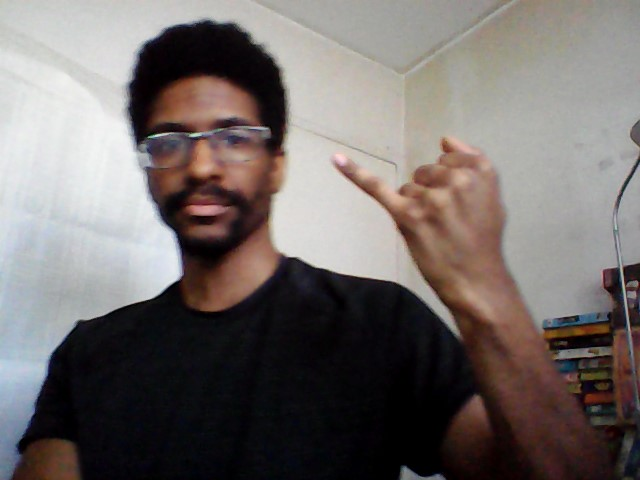j: (330, 132, 518, 283)
